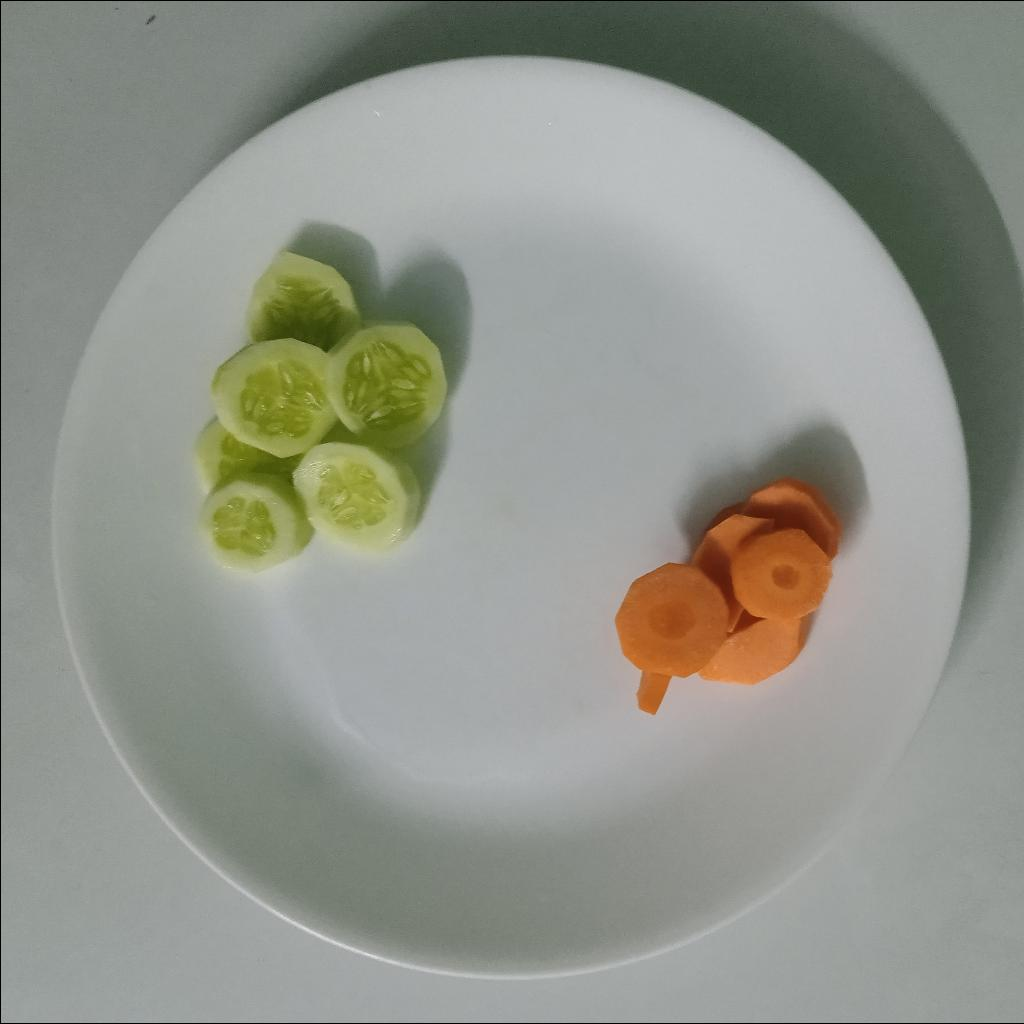carrot: (607, 479, 845, 717)
cucumber: (189, 250, 453, 578)
